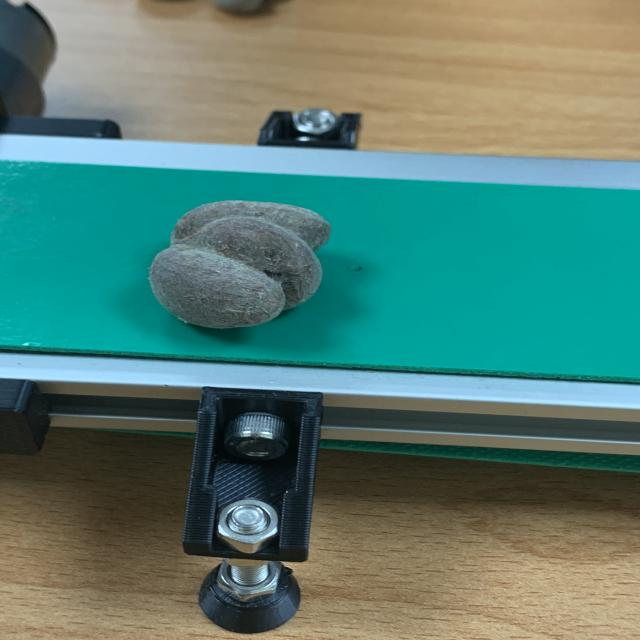Agglomerated_cocoabeans: (101, 179, 403, 375)
